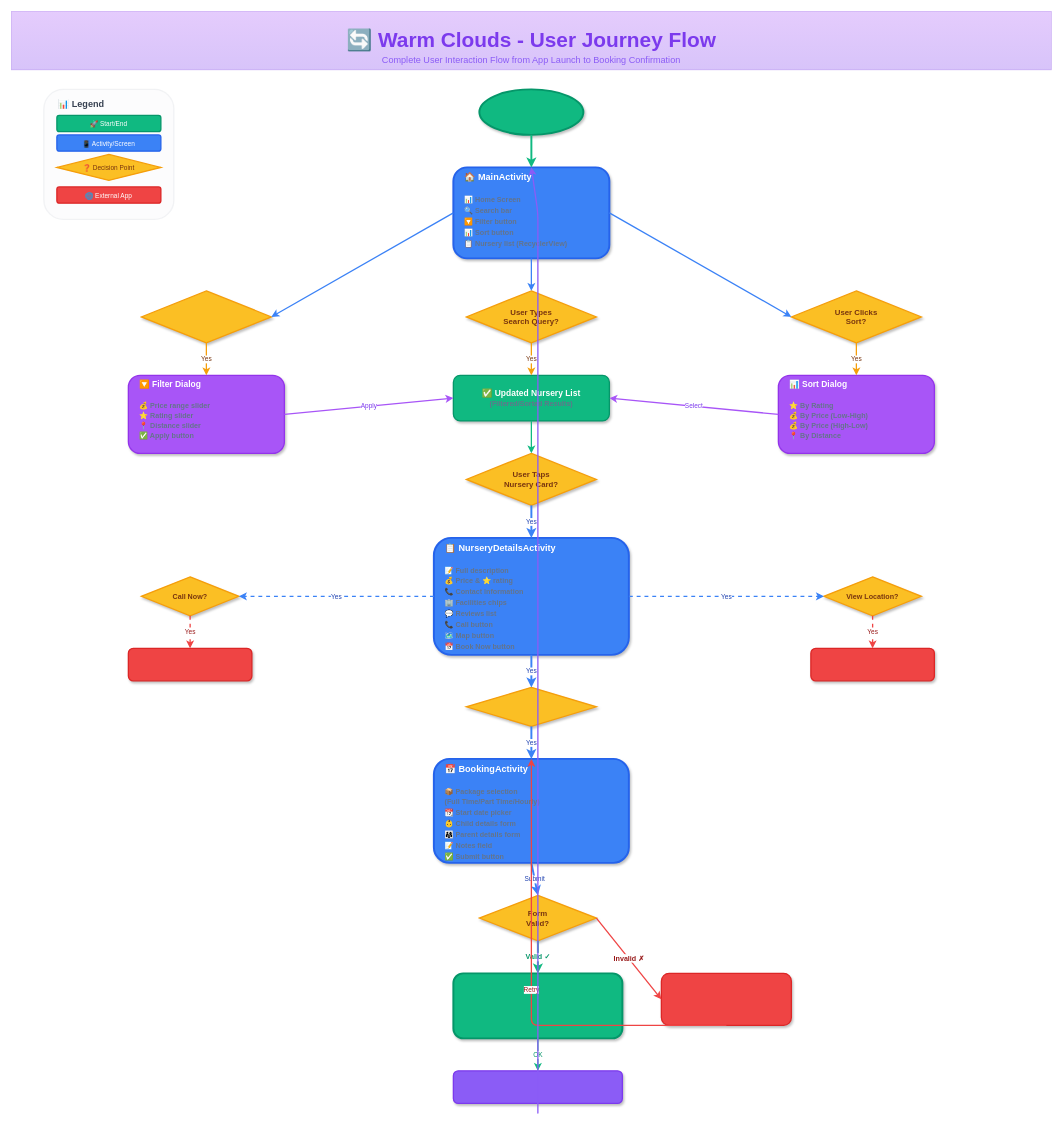
This 1063x1134 diagram has some shape labels left out. The centre of each missing label's shape, as x and y in pixels:
"Book Now?" belongs at [532,707].
"User Clicks Filter?" belongs at [207,317].
"✅ Booking Confirmation 🎉 Success! Booking created successfully" belongs at [538,1006].
"❌ Error Dialog Please fill all required fields" belongs at [727,1000].
"📞 Phone Dialer (External App)" belongs at [190,665].
"🔙 Back to Main Screen" belongs at [538,1087].
"🗺️ Google Maps (External App)" belongs at [873,665].
"🚀 App Launch" belongs at [531,112].
